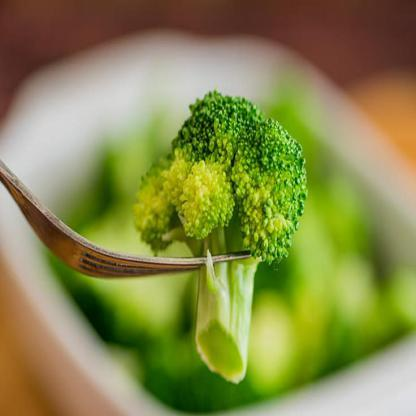broccoli: (133, 87, 314, 396)
